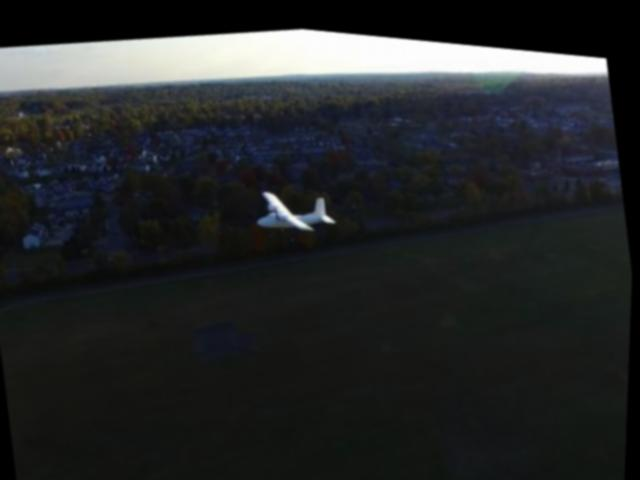uav: (252, 172, 341, 240)
